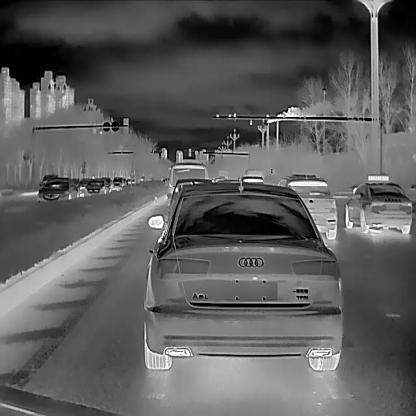car: (143, 182, 344, 369), (276, 172, 338, 240), (342, 174, 414, 231), (166, 161, 208, 210), (170, 178, 207, 220), (36, 178, 78, 206), (83, 180, 109, 198), (243, 168, 263, 186), (240, 177, 262, 189), (111, 176, 122, 192)
